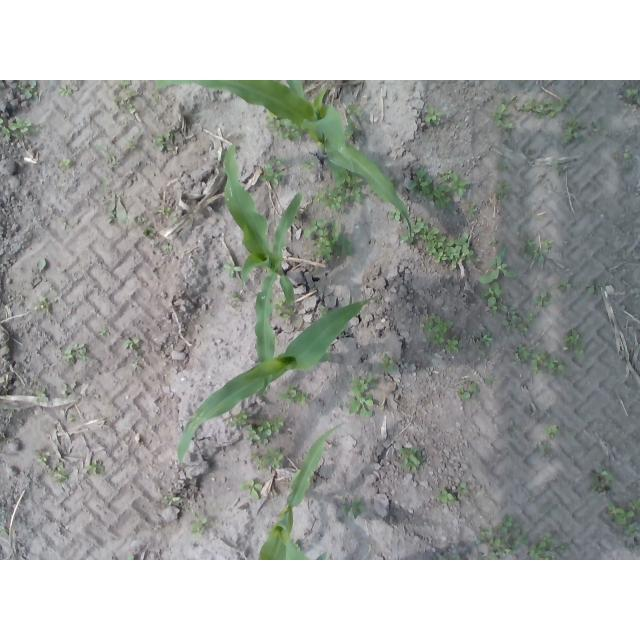Maize: (152, 80, 413, 237), (177, 296, 379, 466), (225, 143, 304, 397), (258, 424, 343, 560)
Weeds: (313, 168, 364, 213), (425, 228, 479, 268), (304, 219, 353, 260), (409, 170, 452, 209), (492, 516, 529, 557), (265, 109, 305, 143), (348, 375, 377, 419), (245, 416, 283, 445), (523, 97, 569, 120), (98, 191, 129, 225), (501, 305, 535, 335), (606, 502, 636, 535), (489, 246, 518, 280), (479, 274, 503, 315), (530, 349, 566, 375), (424, 315, 454, 346), (492, 94, 517, 131), (522, 236, 555, 264), (0, 117, 40, 139), (249, 447, 283, 472), (397, 444, 427, 472), (114, 80, 137, 114), (528, 533, 556, 560), (403, 217, 430, 243), (278, 384, 308, 406), (564, 329, 584, 360), (61, 343, 91, 363), (590, 470, 614, 495), (560, 117, 582, 144), (475, 330, 494, 360), (49, 460, 72, 484), (260, 163, 284, 186), (238, 480, 263, 501), (273, 297, 296, 319), (342, 497, 365, 519), (450, 172, 470, 196), (189, 512, 207, 538), (33, 295, 58, 313), (18, 80, 39, 101), (424, 107, 444, 128), (378, 353, 399, 372), (155, 133, 175, 152), (534, 291, 555, 308), (435, 489, 458, 504), (229, 409, 248, 427), (28, 387, 49, 403), (515, 342, 530, 362), (475, 528, 493, 544), (543, 424, 561, 440), (86, 460, 105, 475), (222, 263, 242, 277), (58, 85, 79, 98), (493, 183, 507, 202), (624, 88, 640, 104), (444, 336, 458, 353), (154, 205, 172, 218), (554, 280, 572, 293), (160, 495, 181, 506), (590, 121, 606, 135), (347, 104, 362, 118), (586, 282, 602, 295), (122, 337, 139, 349), (388, 210, 405, 222), (466, 202, 478, 219), (142, 226, 157, 239), (468, 379, 481, 394), (300, 158, 316, 170), (60, 156, 73, 170), (551, 162, 563, 177), (457, 388, 471, 400), (478, 552, 499, 560), (456, 484, 470, 495), (110, 154, 122, 166), (538, 442, 550, 454), (629, 498, 640, 511), (214, 150, 225, 163), (37, 454, 48, 466), (557, 543, 569, 554), (317, 307, 328, 318), (60, 383, 68, 398), (98, 327, 110, 337), (37, 258, 47, 270), (388, 177, 400, 187), (131, 214, 146, 222), (124, 140, 137, 149), (163, 243, 174, 253), (291, 541, 301, 552), (99, 178, 109, 188), (497, 160, 508, 169), (269, 157, 283, 164), (486, 373, 494, 385), (97, 145, 108, 152), (233, 293, 241, 302), (453, 554, 464, 560), (0, 526, 8, 534), (623, 152, 631, 160), (338, 403, 346, 410), (488, 238, 496, 245), (173, 217, 180, 224), (131, 363, 138, 370), (68, 413, 74, 421), (524, 147, 532, 153), (625, 163, 633, 169), (369, 189, 376, 195), (128, 556, 135, 561), (349, 136, 353, 140)
